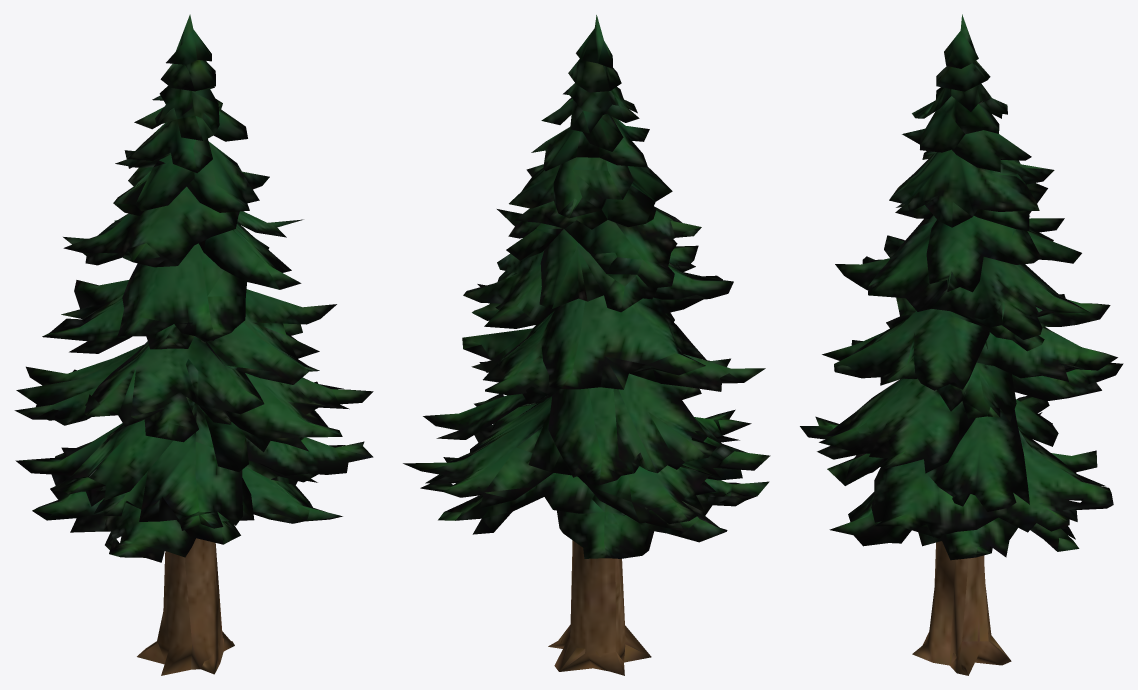
Rendered from tree_pine.glb.
3 views of the same model, side by side, from view 1: azimuth 30°, elevation 25°; view 2: azimuth 150°, elevation 25°; view 3: azimuth 270°, elevation 25° (orthographic).
Visible parts, largest first — view 1: tree_pine; view 2: tree_pine; view 3: tree_pine.
Part boxes in pixels (box(x1,y1,x2,y2)): tree_pine: box(14, 14, 373, 675); tree_pine: box(403, 15, 770, 675); tree_pine: box(800, 14, 1123, 675).
Bounding box in the file's own units: 4.82 × 9.95 × 4.55.
Materials: 1 (1 with a texture image).
